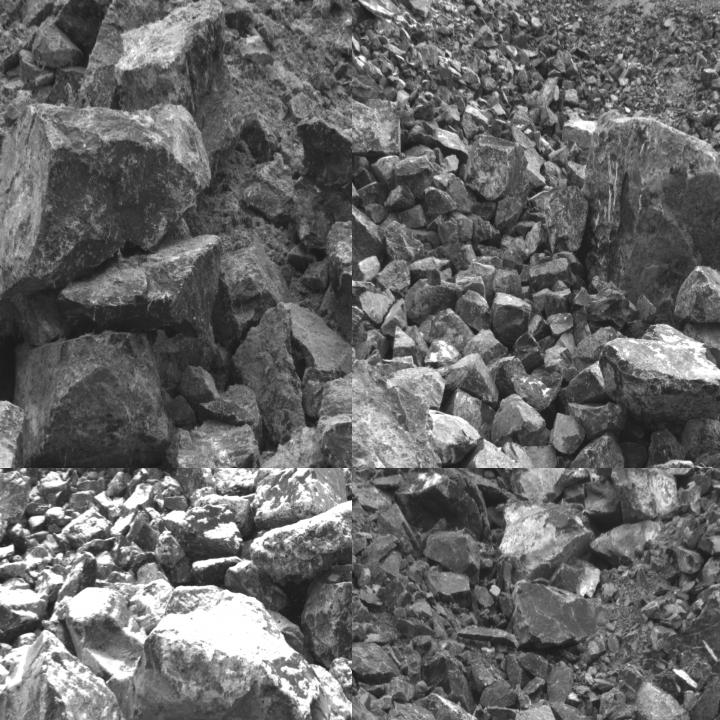stone: (0, 98, 208, 299), (125, 580, 336, 719), (585, 111, 719, 305), (15, 331, 171, 467), (62, 233, 221, 333), (0, 637, 165, 719), (114, 0, 230, 111), (352, 358, 450, 467), (601, 323, 719, 412), (234, 300, 305, 444), (249, 502, 351, 591), (499, 496, 593, 584), (62, 586, 145, 676), (287, 297, 351, 404), (219, 246, 292, 338), (251, 468, 348, 527), (400, 468, 483, 536), (298, 122, 351, 214), (466, 134, 528, 209), (171, 417, 262, 467), (242, 153, 308, 221), (679, 560, 719, 667), (53, 0, 133, 51), (352, 166, 385, 287), (302, 582, 351, 663), (176, 505, 244, 555), (438, 354, 499, 408), (251, 427, 330, 467), (543, 185, 590, 252), (491, 395, 552, 446), (423, 410, 481, 463), (352, 97, 402, 157), (0, 583, 49, 644), (28, 16, 81, 71), (575, 281, 630, 333), (0, 471, 29, 569), (408, 120, 469, 164), (674, 266, 719, 325), (631, 681, 700, 719), (200, 384, 262, 426), (404, 281, 463, 325), (455, 440, 551, 467), (511, 371, 563, 420), (568, 401, 629, 442), (425, 660, 473, 710), (491, 292, 532, 348), (508, 468, 569, 504), (559, 360, 606, 405), (419, 693, 498, 719), (424, 311, 474, 351), (570, 432, 626, 467), (547, 559, 598, 597), (57, 552, 96, 599), (396, 156, 434, 202), (528, 258, 586, 288), (456, 288, 492, 336), (376, 574, 425, 609), (683, 416, 719, 463), (384, 222, 424, 264), (214, 468, 280, 493), (428, 569, 472, 606), (550, 412, 586, 454), (582, 480, 619, 517), (358, 289, 396, 325), (211, 0, 252, 33), (511, 650, 552, 682), (438, 211, 474, 247), (376, 260, 412, 295), (691, 674, 719, 719), (544, 346, 578, 382), (459, 626, 517, 647), (512, 333, 542, 372), (361, 534, 398, 564), (175, 468, 214, 496), (546, 663, 572, 704), (444, 242, 477, 274), (423, 188, 457, 219), (481, 682, 518, 707), (494, 266, 522, 298), (410, 258, 451, 279), (525, 222, 550, 254), (545, 703, 595, 719), (677, 547, 705, 575), (352, 255, 381, 282), (546, 311, 573, 338), (384, 680, 415, 702), (697, 530, 719, 558), (352, 598, 372, 624), (362, 204, 389, 223), (411, 598, 433, 620), (587, 468, 619, 479), (490, 468, 521, 479)
